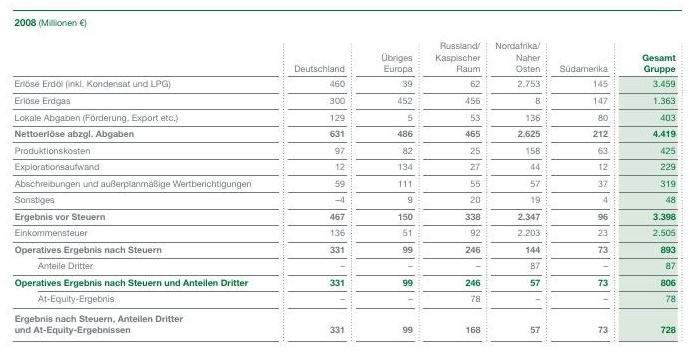table: (0, 0, 690, 353)
